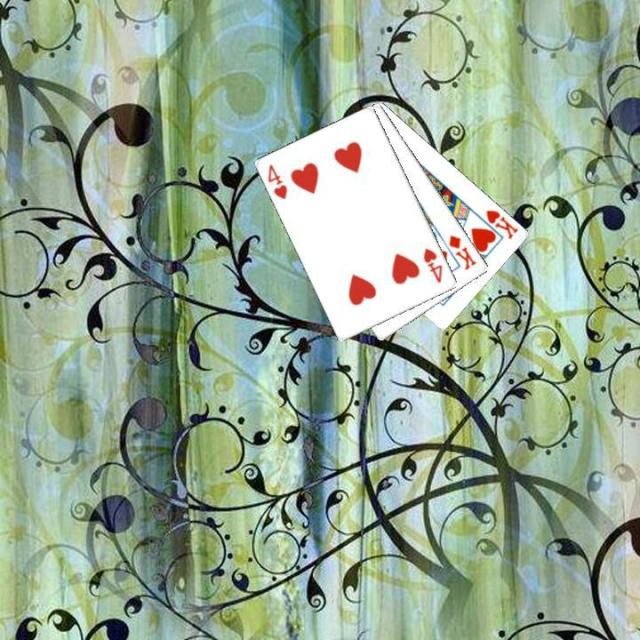4H: (264, 161, 290, 201), (420, 244, 444, 284)
KD: (446, 231, 478, 272)
KH: (482, 205, 520, 241)
